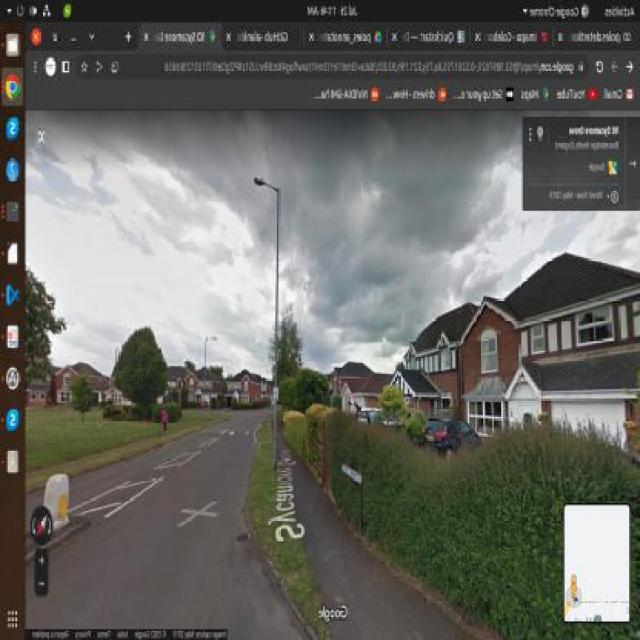pole: (246, 176, 285, 464)
